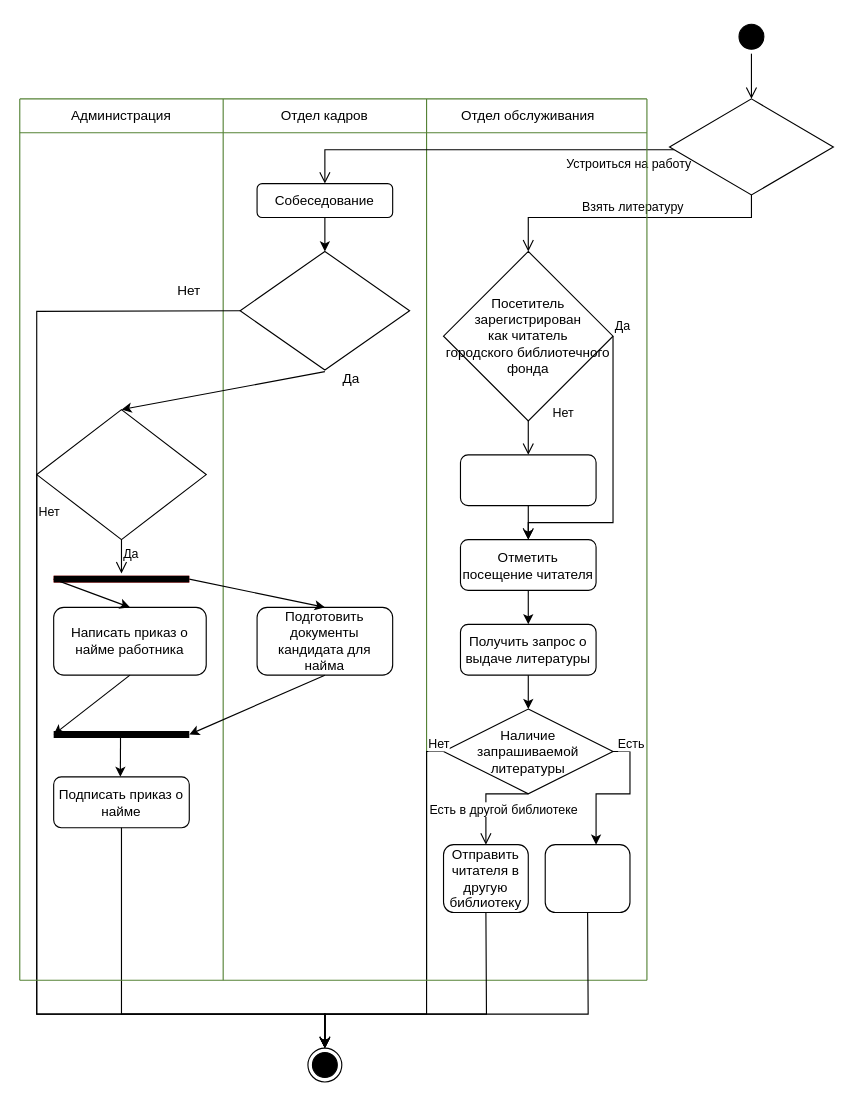
The diagram is 853 pixels wide and 1102 high, and some of its shapes have lost their labels. Here are the shapes that lost their labels. From the top down, the centre of each, then its label:
(x=750, y=146): Цель посещения библиотеки
(x=324, y=310): Кандидат успешно прошёл собеседование
(x=121, y=474): Директор согласен принять на работу кандидата
(x=527, y=480): Зарегистрировать нового читателя
(x=587, y=878): Выдать читателю экземпляр издания
